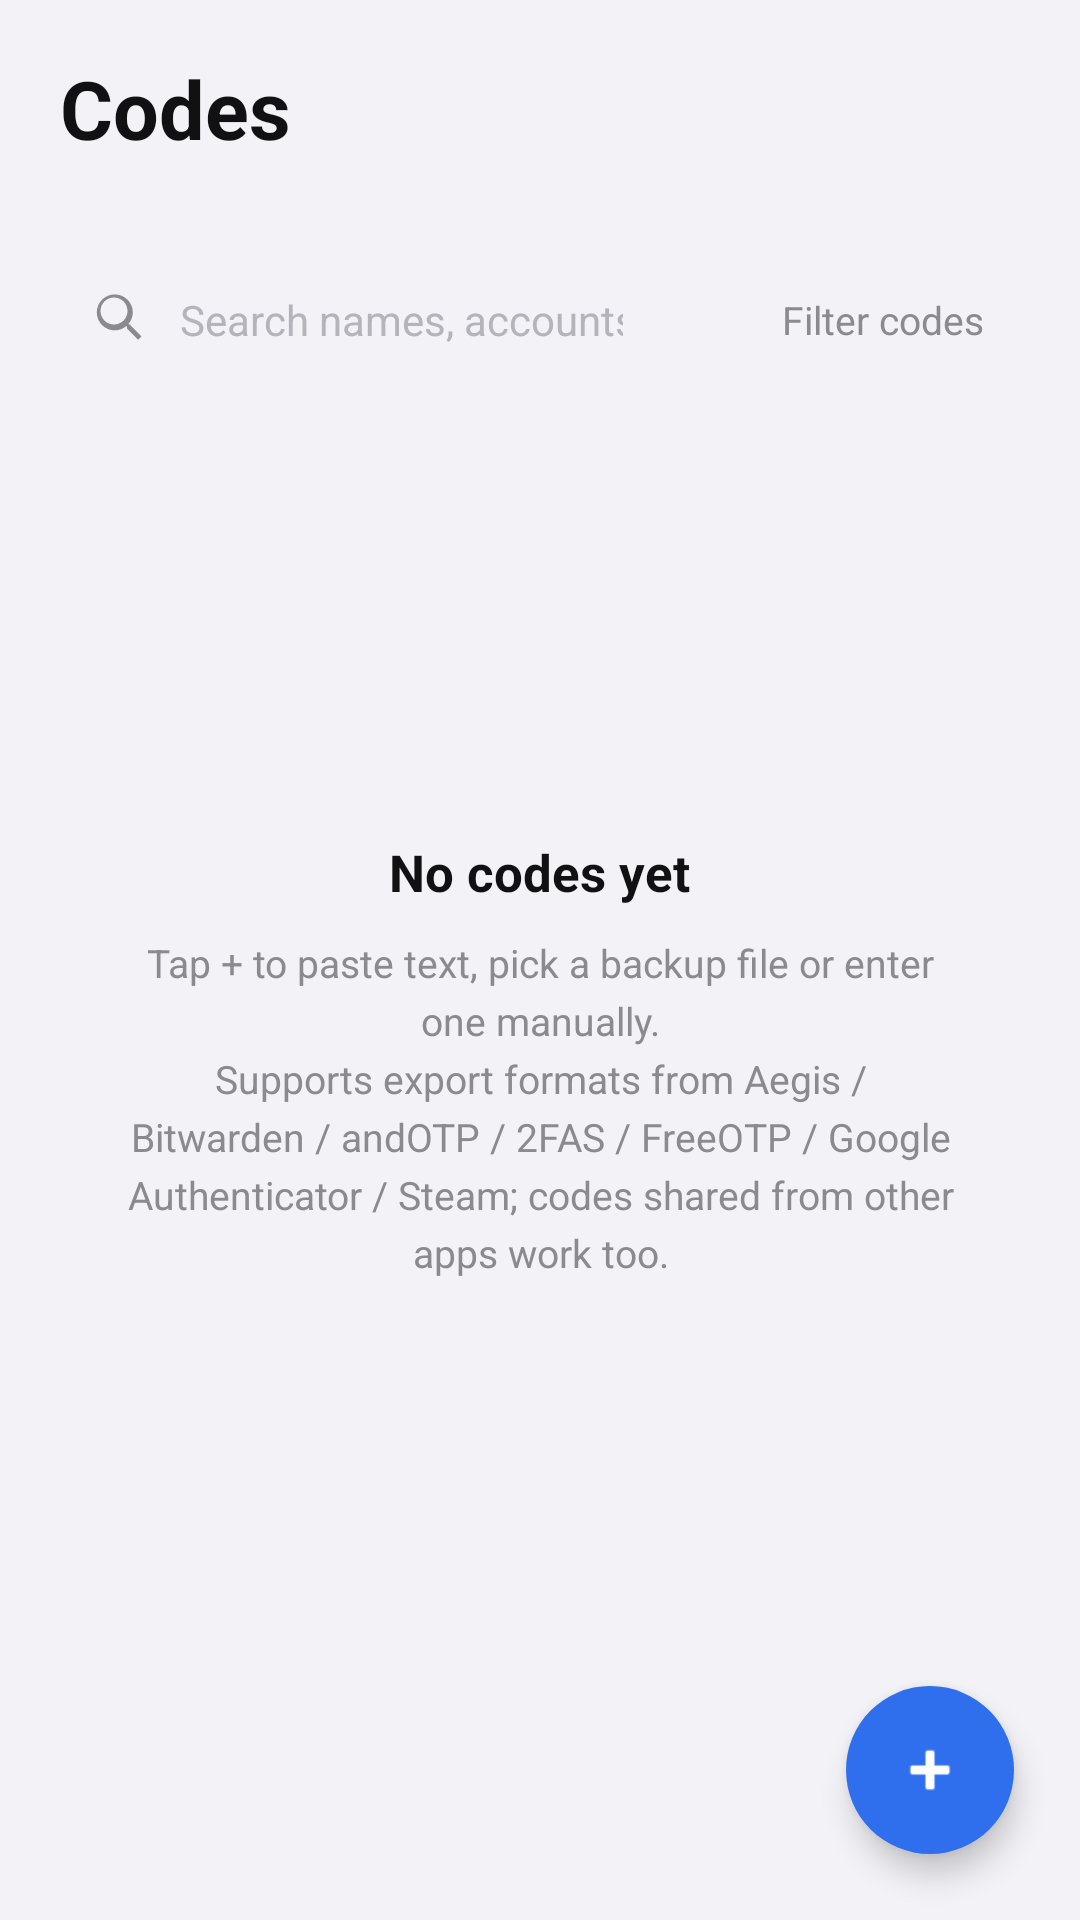

Screen size 1080px x 1920px. Icon name, then its center in pixels as point (x, y):
Add: point (930, 1770)
